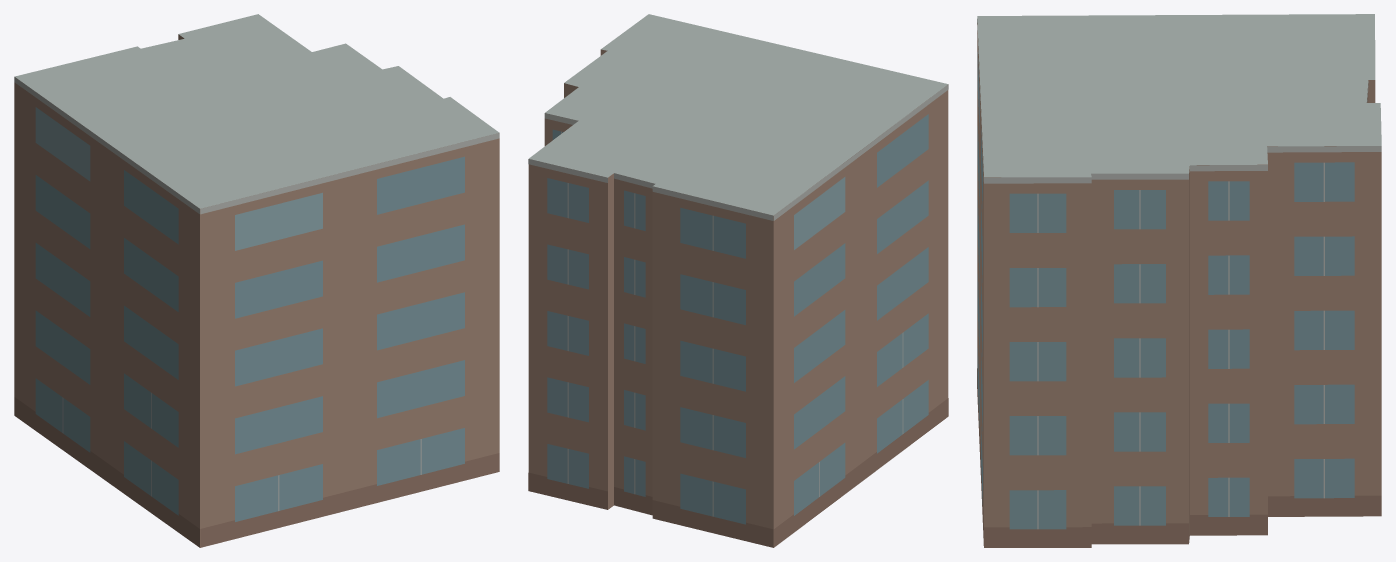
The model's file is survey-upis-32736103.glb.
3 renders of one model, left to right at view 1: azimuth 30°, elevation 25°; view 2: azimuth 150°, elevation 25°; view 3: azimuth 270°, elevation 25°, orthographic. The views are drawn at different scales.
Visible parts, largest first — view 1: survey-upis-32736103.tmp; view 2: survey-upis-32736103.tmp; view 3: survey-upis-32736103.tmp.
Boxes of the visible parts, x1,y1,x2,y2 form: survey-upis-32736103.tmp: (14,14,499,547); survey-upis-32736103.tmp: (528,14,948,547); survey-upis-32736103.tmp: (977,14,1381,547).
Size of the model in its own units: 13.96 by 14.75 by 14.61.
